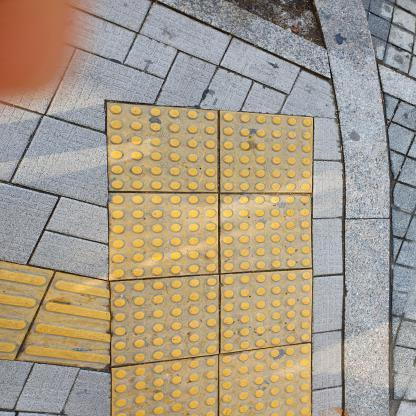podotacti: (0, 94, 325, 415)
